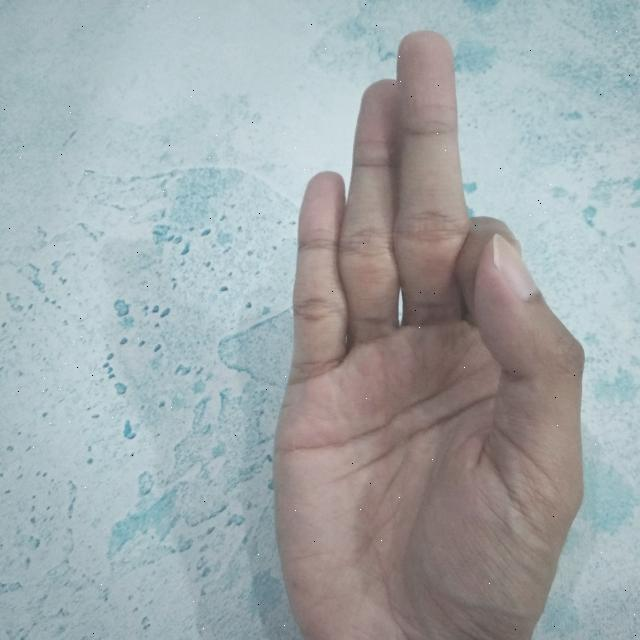F: (273, 30, 586, 640)
